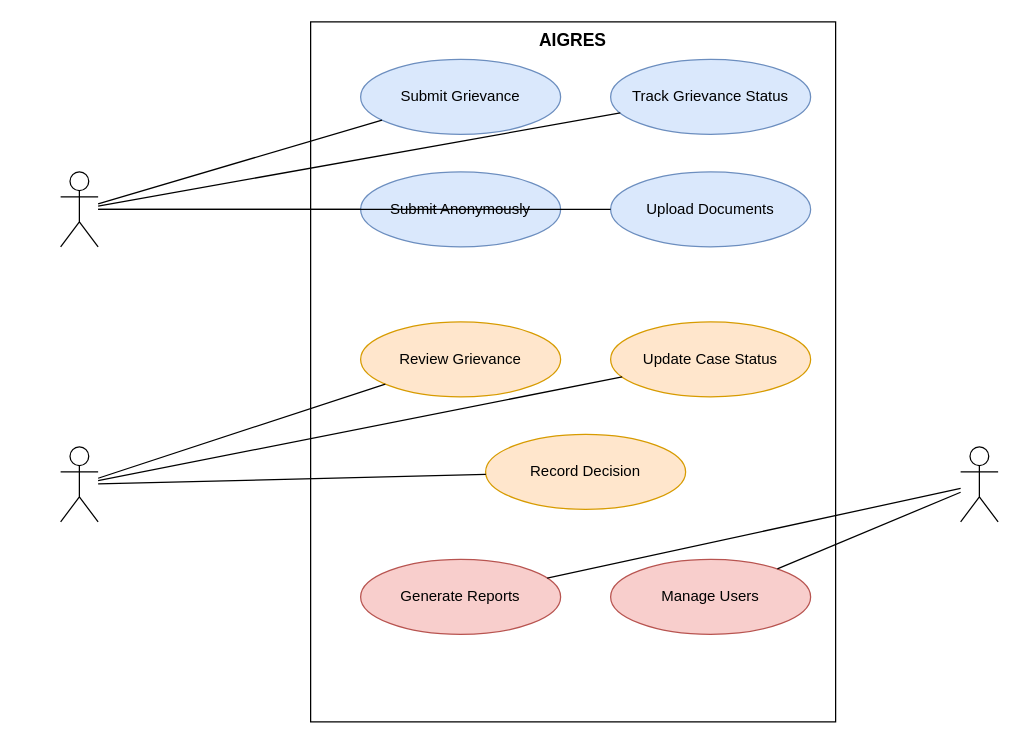
Image size: 1023x744. Some labels were removed from this diagram. Here are the shapes that lost their labels. From the top down, the centre of each, then its label:
At point 78,209: "Student".
At point 78,484: "Grievance Officer".
At point 978,484: "Admin".
